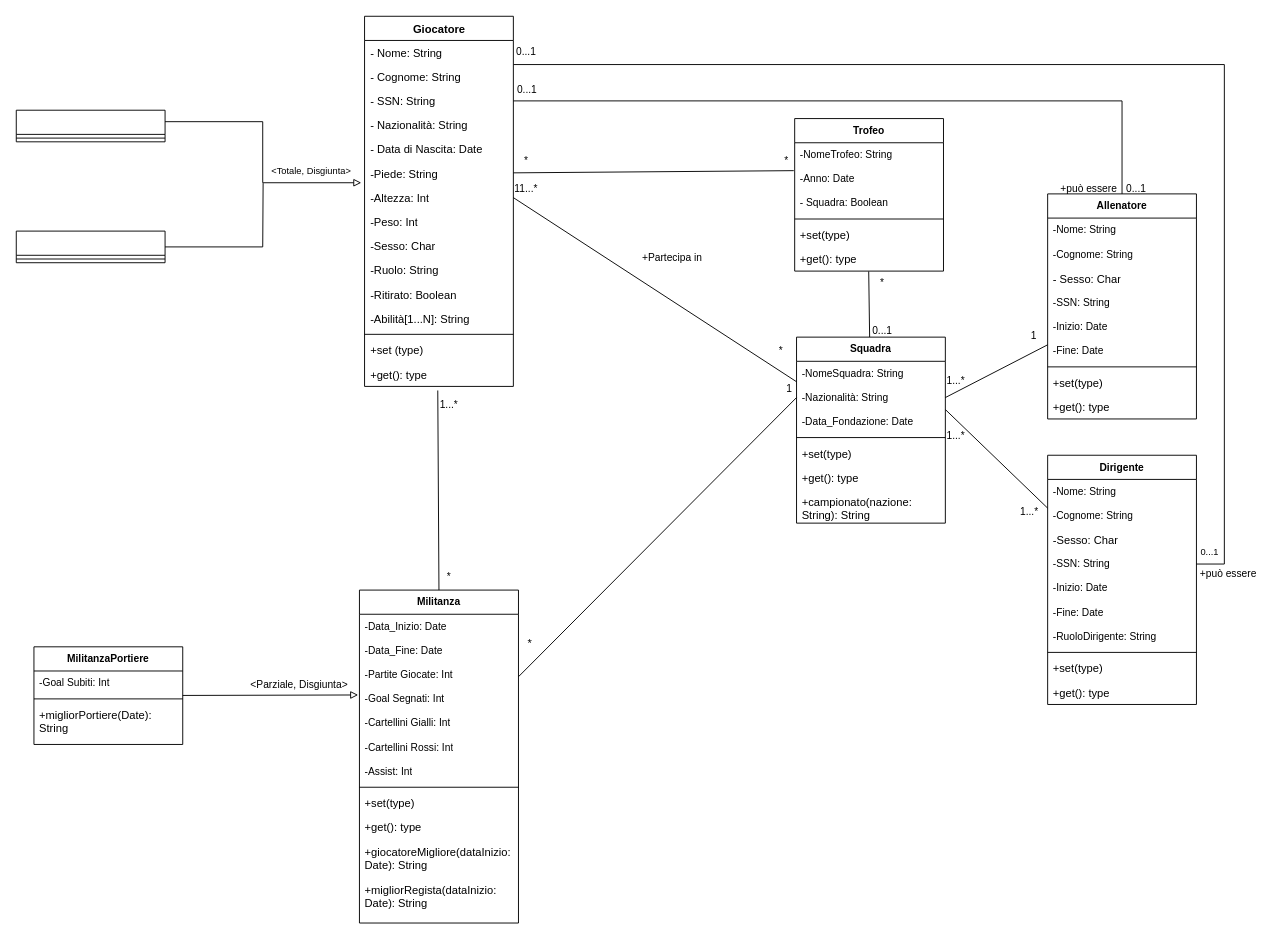
This 1282x942 diagram has some shape labels left out. The shapes that lost their labels are listed below. From the top down, each one's centre as x and y in pixels, then its label:
the point at 90,125: Portiere
the point at 90,246: GiocatoreDiMovimento
